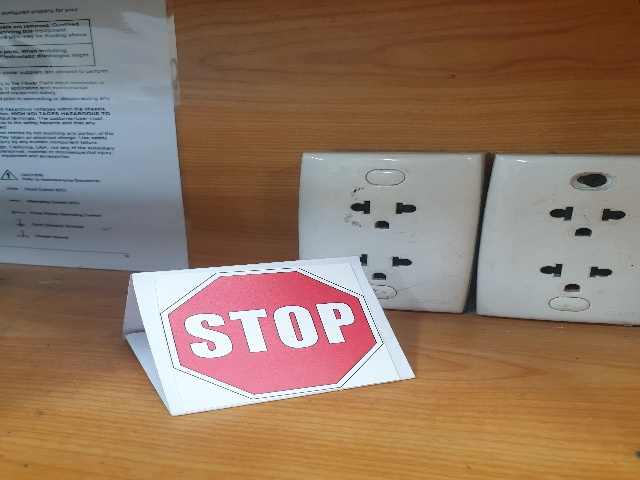Stop: (165, 271, 382, 391)
